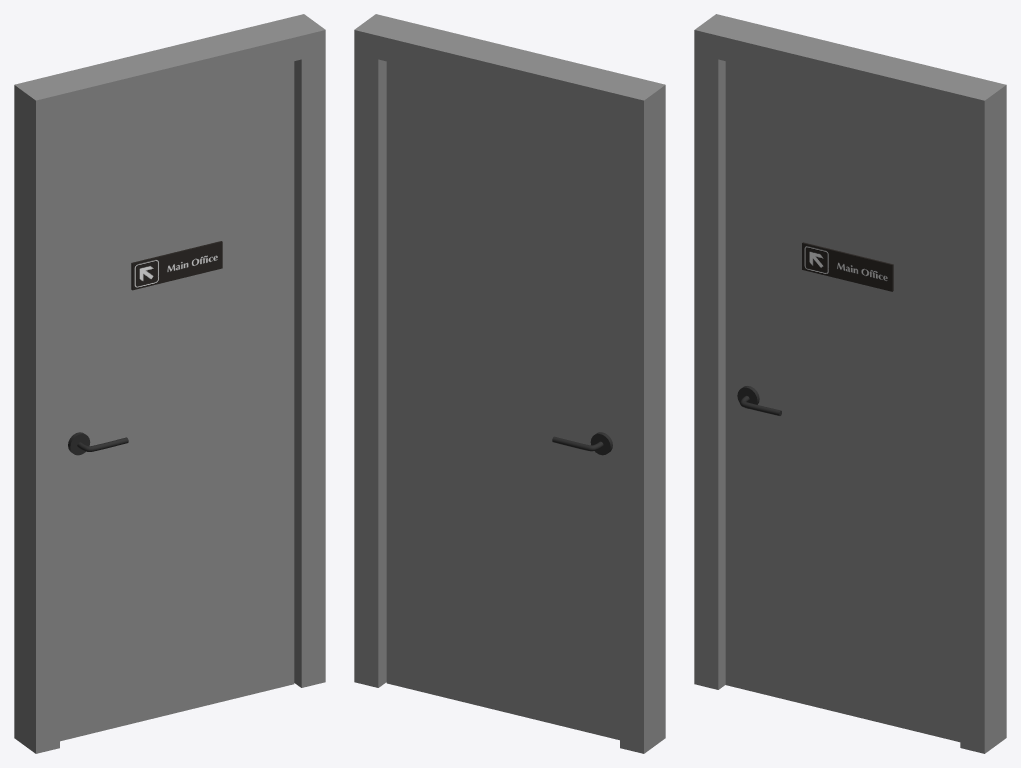
Rendered from Door 1.FBX.
3 renders of one model, left to right at view 1: azimuth 30°, elevation 25°; view 2: azimuth 150°, elevation 25°; view 3: azimuth 330°, elevation 25°, orthographic.
Parts seen in each view (by area): view 1: Door, door frame, poster; view 2: Door, door frame; view 3: Door, door frame, poster.
Part boxes in pixels (x1,y1,x2,y2): Door: [60, 61, 294, 741]; door frame: [14, 14, 325, 753]; poster: [131, 241, 222, 290]; Door: [386, 61, 619, 740]; door frame: [354, 14, 665, 753]; Door: [725, 61, 960, 742]; door frame: [694, 14, 1006, 753]; poster: [802, 242, 893, 291].
Bounding box in the file's own units: 101 × 217 × 17.52.
2 materials, 1 textured.
